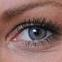eye: (29, 27, 46, 39)
